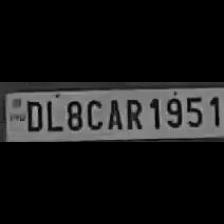1: (144, 95, 162, 129), (205, 94, 221, 128)
5: (182, 94, 204, 128)
8: (63, 97, 83, 131)
9: (162, 94, 182, 130)
A: (104, 96, 124, 130)
C: (84, 96, 104, 130)
D: (23, 98, 43, 132)
L: (42, 97, 62, 132)
R: (122, 96, 144, 130)
